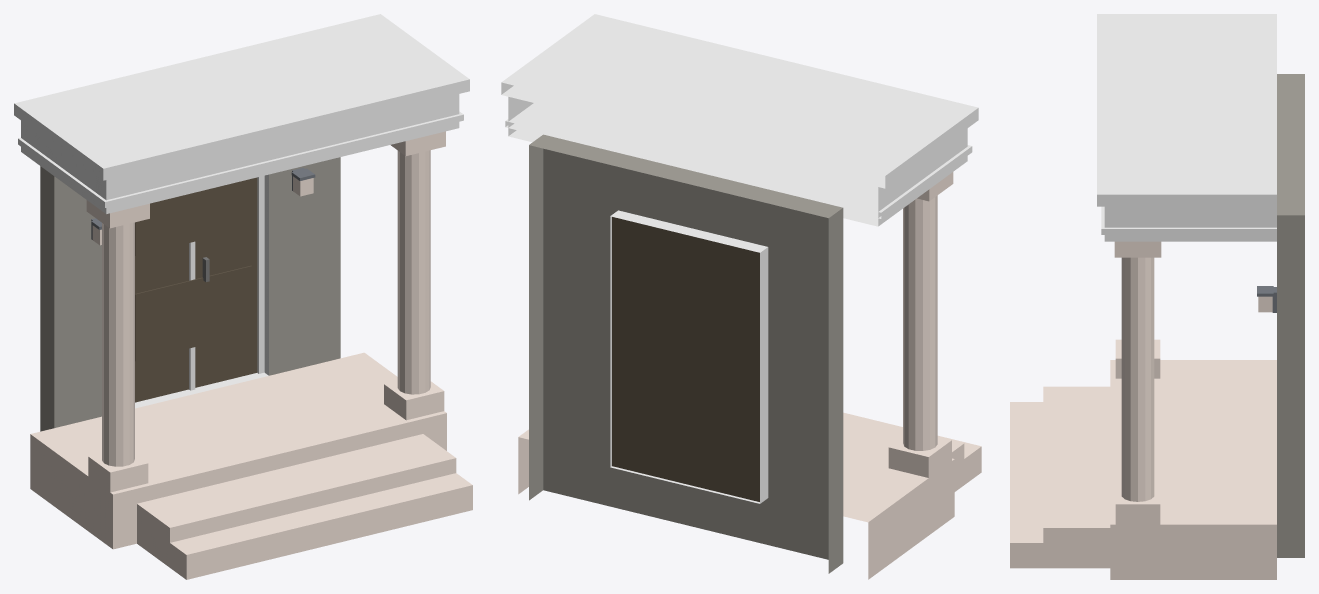
The model's file is entrance_close.fbx.
The picture shows the model from 3 angles, left to right: view 1: azimuth 30°, elevation 25°; view 2: azimuth 150°, elevation 25°; view 3: azimuth 270°, elevation 25°; orthographic projection. The views are drawn at different scales.
Parts seen in each view (by area): view 1: a2000s3/400/entrance_close; view 2: a2000s3/400/entrance_close; view 3: a2000s3/400/entrance_close.
Boxes of the visible parts, left/top/right/bottom form: a2000s3/400/entrance_close: left=14, top=14, right=472, bottom=579; a2000s3/400/entrance_close: left=501, top=14, right=981, bottom=579; a2000s3/400/entrance_close: left=1010, top=14, right=1304, bottom=579.
Size of the model in its own units: 3.84 by 3.9 by 2.65.
